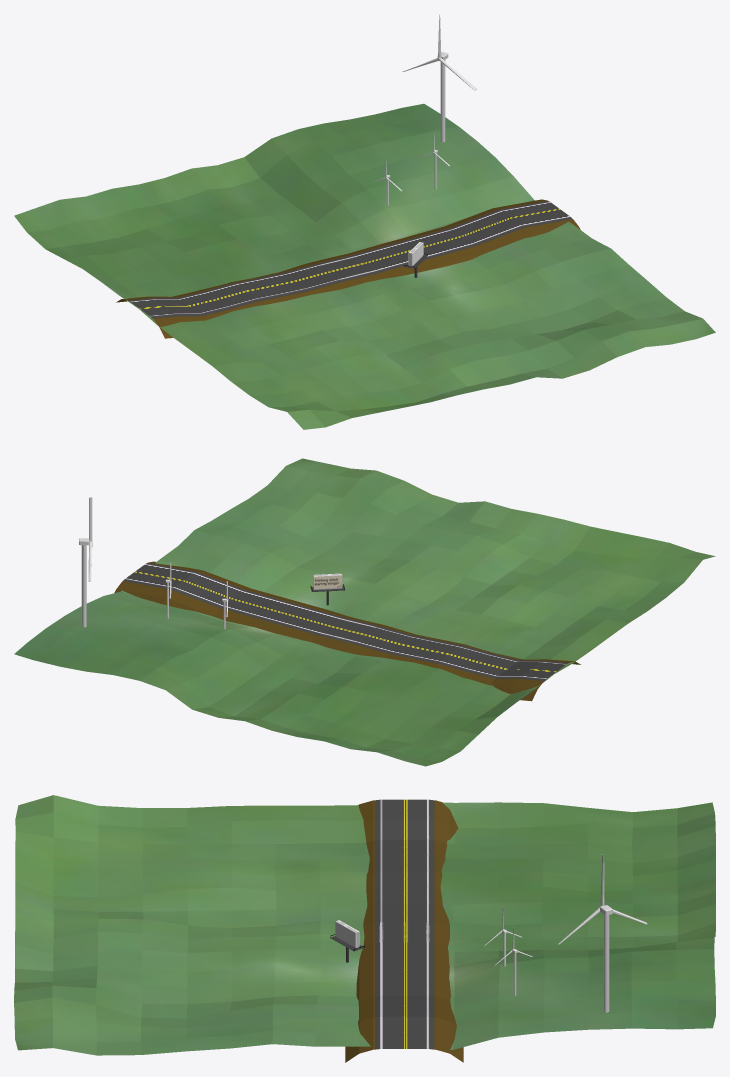
The model's file is clear-skies.glb.
3 views of the same model, one above another, from view 1: azimuth 30°, elevation 25°; view 2: azimuth 150°, elevation 25°; view 3: azimuth 270°, elevation 25° (orthographic). The views are drawn at different scales.
Parts seen in each view (by area): view 1: Grass, Road; view 2: Grass, Road, Windmill.001; view 3: Grass, Road, Windmill.001, Billboard, Fan.001.
Boxes of the visible parts, left/top/right/bottom form: Grass: left=14, top=103, right=715, bottom=429; Road: left=116, top=199, right=580, bottom=338; Grass: left=14, top=458, right=715, bottom=766; Road: left=114, top=561, right=580, bottom=701; Windmill.001: left=79, top=538, right=89, bottom=627; Grass: left=14, top=795, right=715, bottom=1055; Road: left=345, top=799, right=463, bottom=1062; Windmill.001: left=600, top=905, right=612, bottom=1012; Billboard: left=330, top=920, right=364, bottom=962; Fan.001: left=558, top=854, right=647, bottom=944.
Size of the model in its own units: 463 by 171 by 558.
4 materials, 4 textured.
